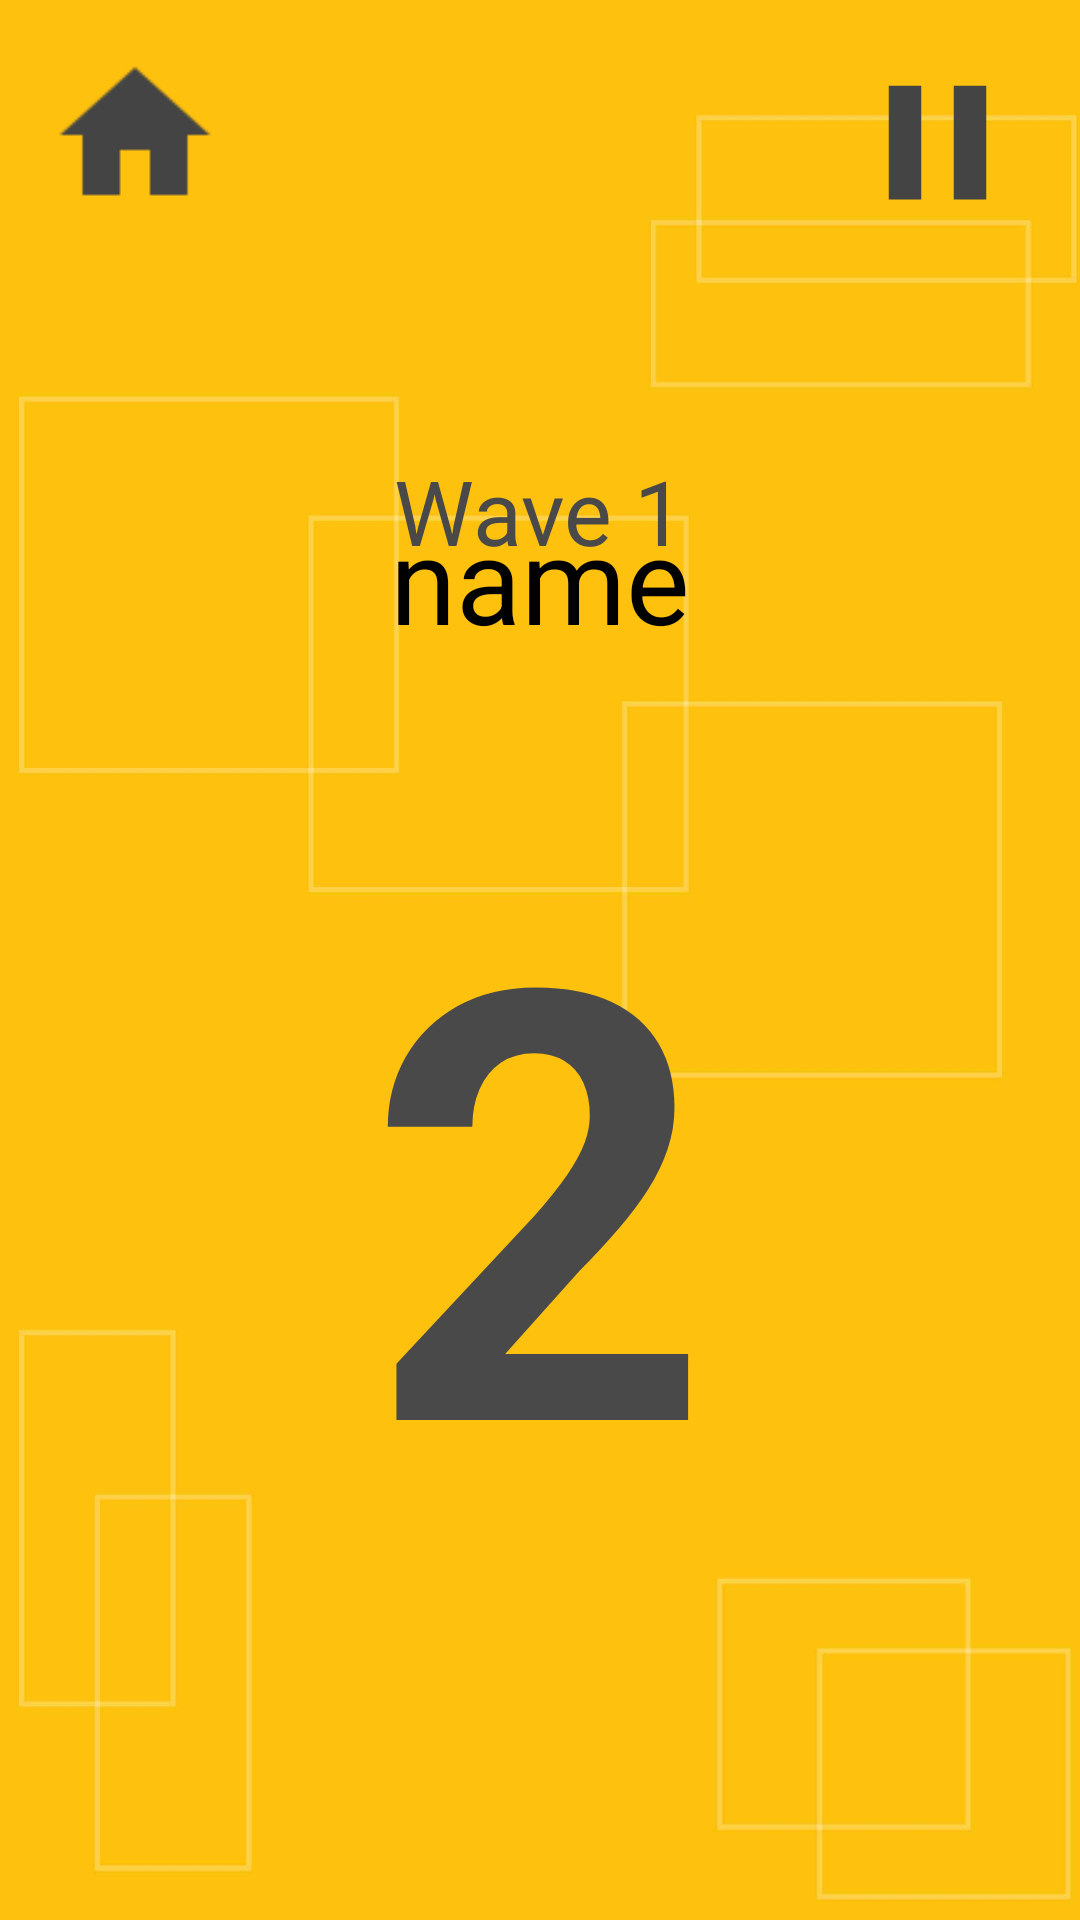

Named icons in this screenshot (1080px x 1920px) and their centers, (x=x, y=y):
home: (x=135, y=131)
